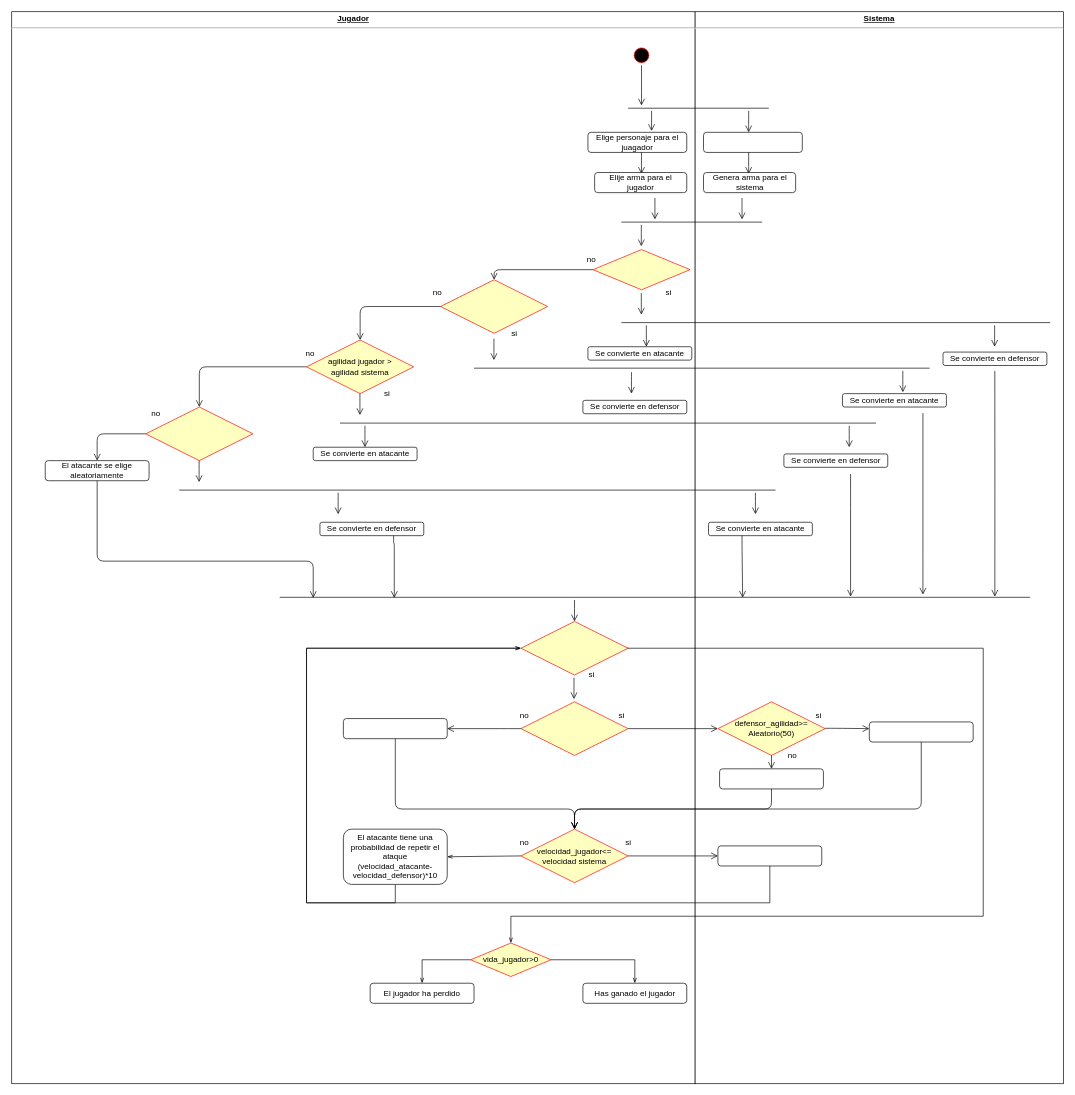
Some shapes in this 1075 by 1095 pixel diagram are drawn without their labels. Each missing label, with the box of its shape:
agilidad jugador < agilidad sistema: (145, 406, 253, 461)
agilidad_atacante> Aleatorio(100): (520, 701, 628, 755)
Ataque fallido: (343, 718, 447, 739)
El atacante ha acertado el golpe: (719, 768, 823, 789)
El atacante se vuelve defensor y viceversa: (717, 845, 822, 866)
El defensor ha esquivado el ataque: (869, 721, 973, 742)
Genera personaje para el sistema: (703, 132, 802, 152)
velocidad jugador < velocidad sistema: (440, 279, 548, 333)
velocidad jugador > velocidad sistema: (592, 249, 690, 290)
vida_jugador>0 and vida_sistema>0: (520, 621, 628, 675)
